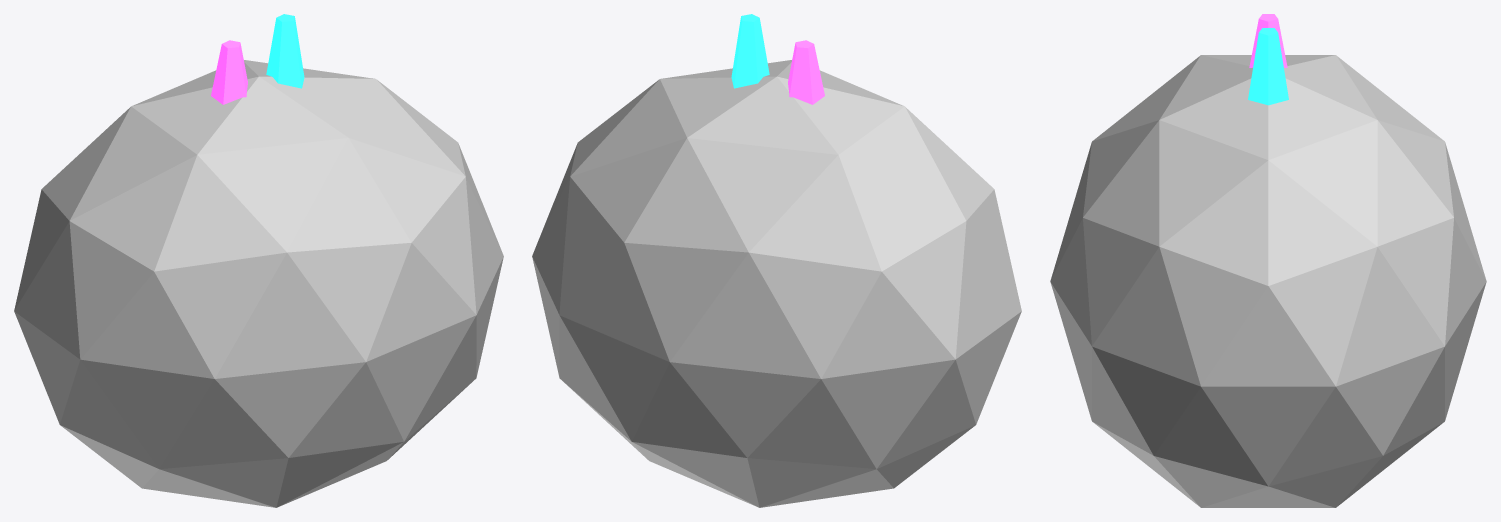
3 renders of one model, left to right at view 1: azimuth 30°, elevation 25°; view 2: azimuth 150°, elevation 25°; view 3: azimuth 270°, elevation 25°, orthographic.
Visible parts, largest first — view 1: Neon_Boulder_Standard; view 2: Neon_Boulder_Standard; view 3: Neon_Boulder_Standard.
Boxes of the visible parts, x1=… form: Neon_Boulder_Standard: x1=14, y1=14, x2=503, y2=507; Neon_Boulder_Standard: x1=532, y1=14, x2=1021, y2=507; Neon_Boulder_Standard: x1=1050, y1=14, x2=1486, y2=507.
Bounding box in the file's own units: 1.71 × 1.8 × 1.5.
